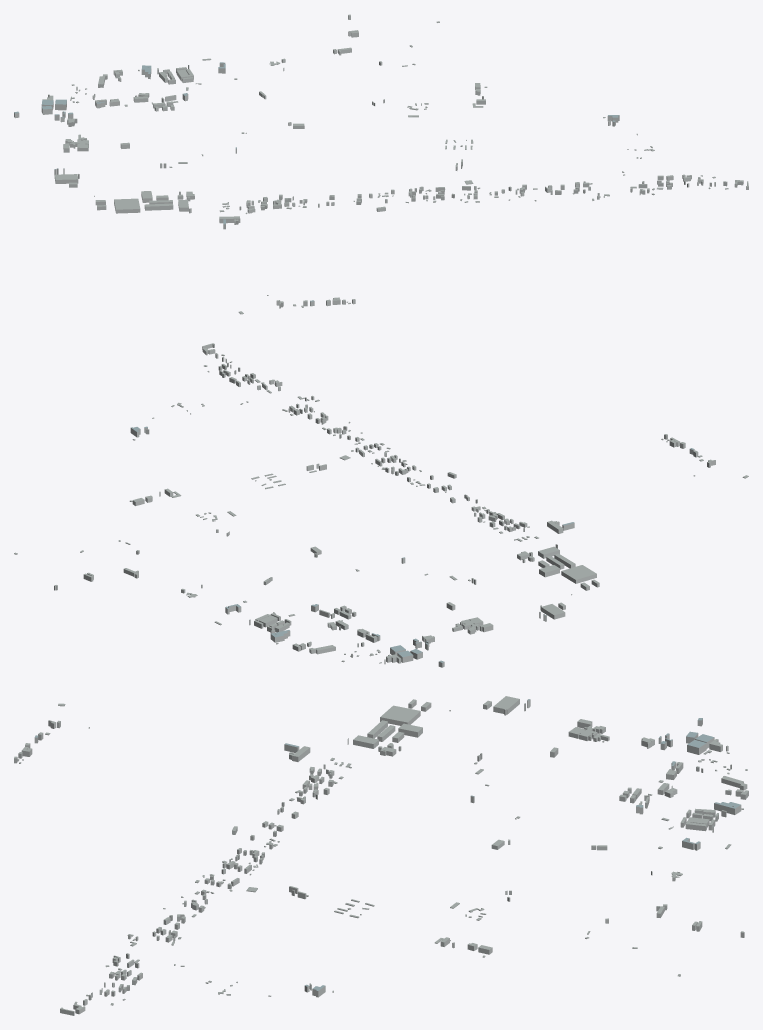
Rendered from far.glb.
The picture shows the model from 3 angles, top to bottom: view 1: azimuth 30°, elevation 25°; view 2: azimuth 150°, elevation 25°; view 3: azimuth 270°, elevation 25°; orthographic projection. The views are drawn at different scales.
Bounding box in the file's own units: 2109 × 23.9 × 2080.
